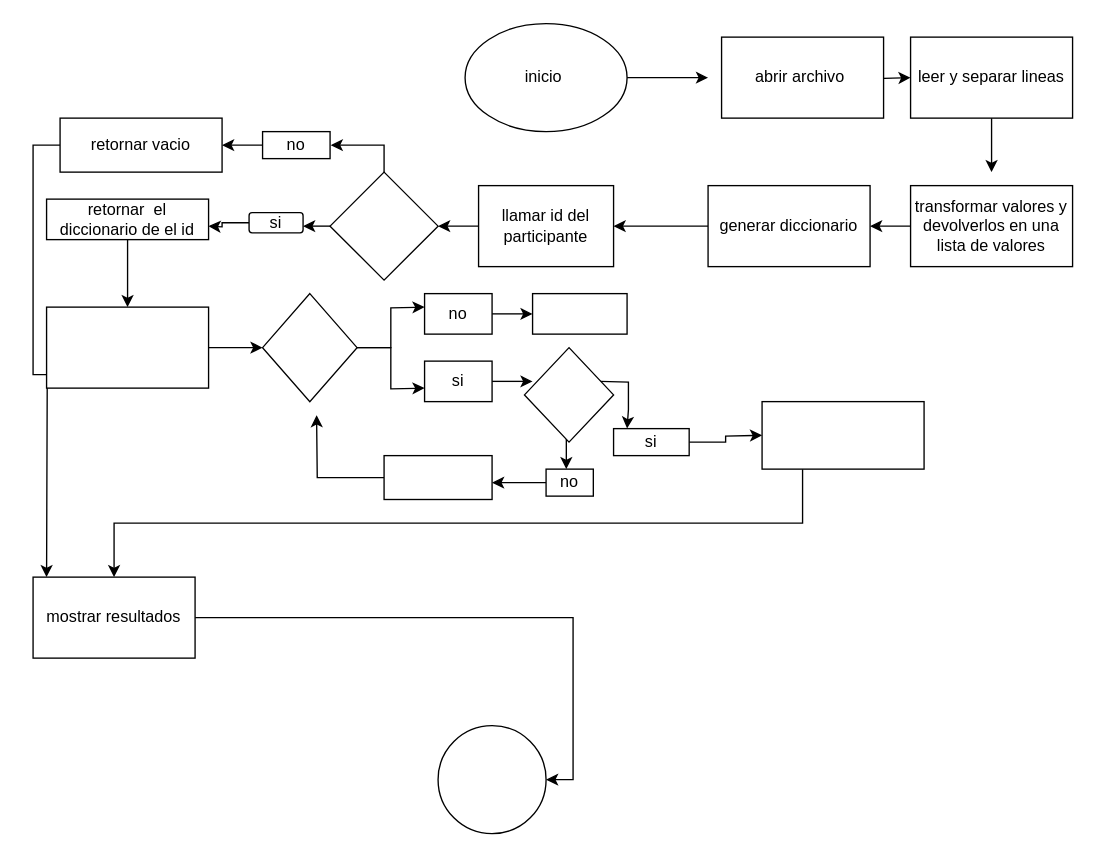
The diagram is 1096 pixels wide and 857 high, and some of its shapes have lost their labels. Here are the shapes that lost their labels. From the top down, the centre of each, then its label:
At point (383, 225): "esta el id?".
At point (579, 313): "none".
At point (127, 347): "contar hits".
At point (309, 347): "hay hits".
At point (568, 394): "termino la cantidad de hits?".
At point (842, 434): "tiempo del primer hit, cuantos hits hay".
At point (437, 477): "seguir buscando hits".
At point (491, 779): "fin".
